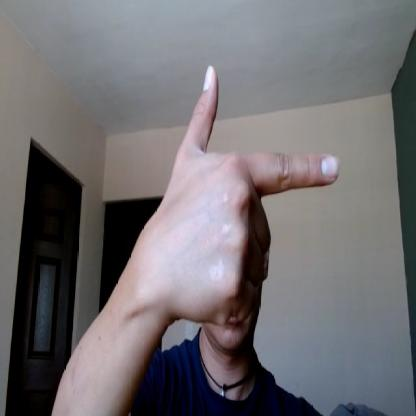G: (166, 65, 341, 326)
